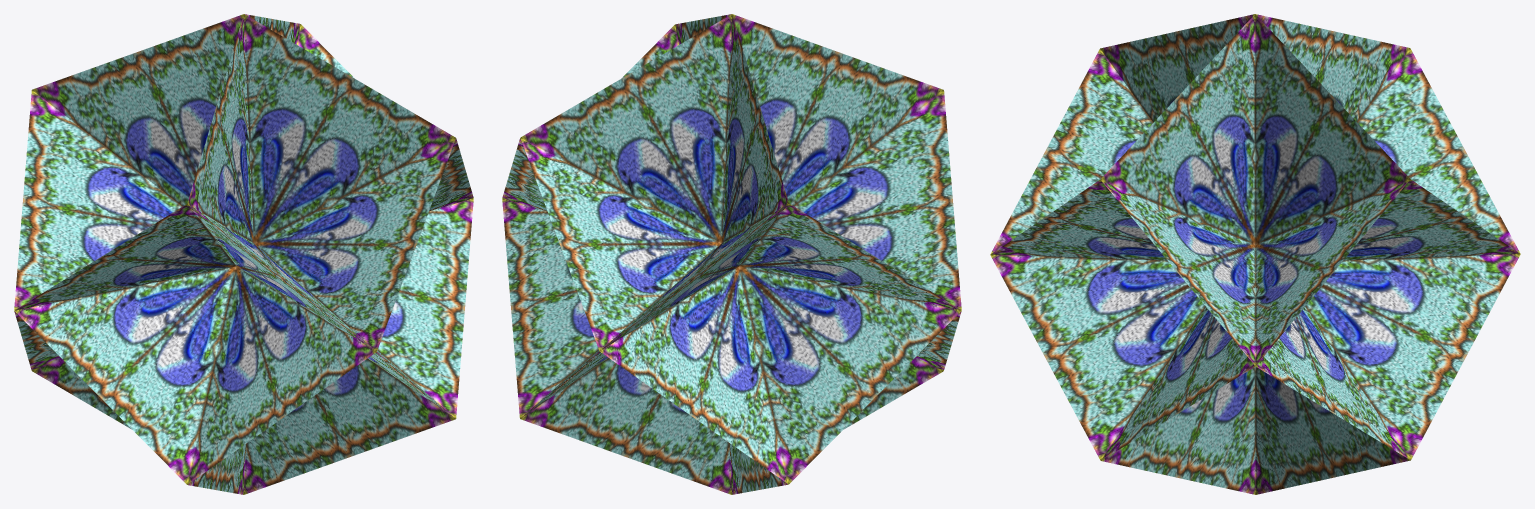
File: Mobius48b_3.obj
The picture shows the model from 3 angles, left to right: view 1: azimuth 30°, elevation 25°; view 2: azimuth 150°, elevation 25°; view 3: azimuth 270°, elevation 25°; orthographic projection.
Bounding box in the file's own units: 2.16 × 2.16 × 2.16.
Materials: 1 (1 with a texture image).
